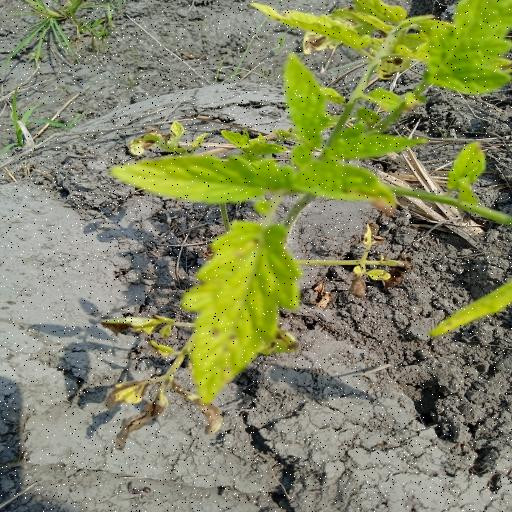Tomato_Brown_Spots: (170, 213, 314, 417)
